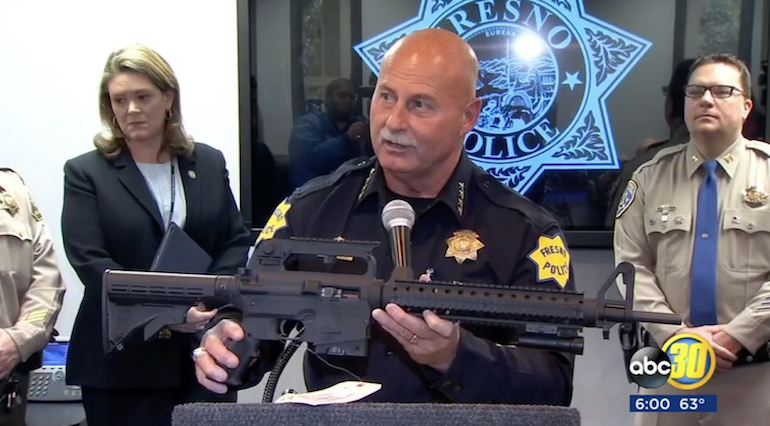Rifle: (92, 236, 681, 366)
